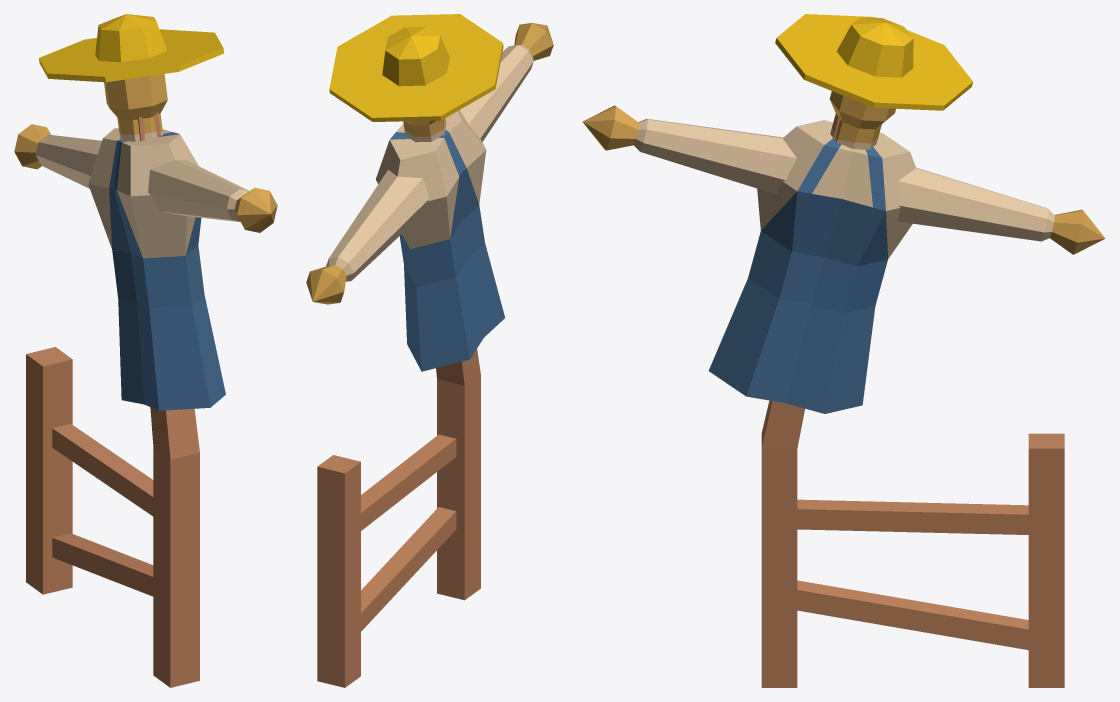
Rendered from fence_scarecrew.fbx.
3 views of the same model, side by side, from view 1: azimuth 30°, elevation 25°; view 2: azimuth 150°, elevation 25°; view 3: azimuth 270°, elevation 25° (orthographic). The views are drawn at different scales.
Parts seen in each view (by area): view 1: Circle.002, Cube, Cube.001, Cube.002, Cube.003; view 2: Circle.002, Cube.001, Cube, Cube.003, Cube.002; view 3: Circle.002, Cube, Cube.001, Cube.003, Cube.002.
Boxes of the visible parts, left/top/right/bottom form: Circle.002: left=14, top=14, right=277, bottom=410; Cube: left=138, top=112, right=199, bottom=687; Cube.001: left=26, top=347, right=72, bottom=594; Cube.002: left=52, top=423, right=153, bottom=516; Cube.003: left=52, top=533, right=153, bottom=596; Circle.002: left=306, top=14, right=553, bottom=371; Cube.001: left=317, top=455, right=360, bottom=687; Cube: left=436, top=349, right=480, bottom=600; Cube.003: left=361, top=507, right=456, bottom=631; Cube.002: left=361, top=434, right=456, bottom=530; Circle.002: left=582, top=14, right=1105, bottom=413; Cube: left=761, top=116, right=840, bottom=687; Cube.001: left=1028, top=433, right=1064, bottom=687; Cube.003: left=797, top=580, right=1028, bottom=650; Cube.002: left=797, top=499, right=1028, bottom=534.
Bounding box in the file's own units: 66.9 × 240 × 173.
